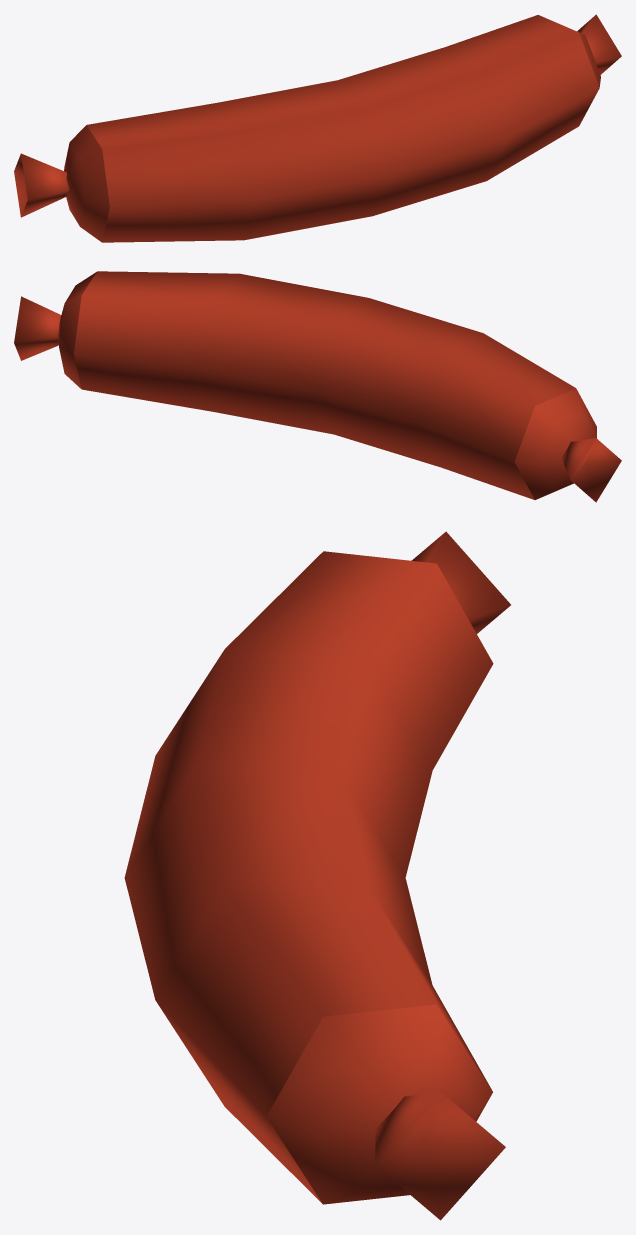
The model's file is Sausage.fbx.
3 views of the same model, one above another, from view 1: azimuth 30°, elevation 25°; view 2: azimuth 150°, elevation 25°; view 3: azimuth 270°, elevation 25° (orthographic). The views are drawn at different scales.
Parts seen in each view (by area): view 1: Sausage; view 2: Sausage; view 3: Sausage.
Boxes of the visible parts, x1,y1,x2,y2 form: Sausage: (14,14,621,242); Sausage: (14,271,621,502); Sausage: (124,531,510,1220).
Size of the model in its own units: 221 by 39.23 by 62.36.
